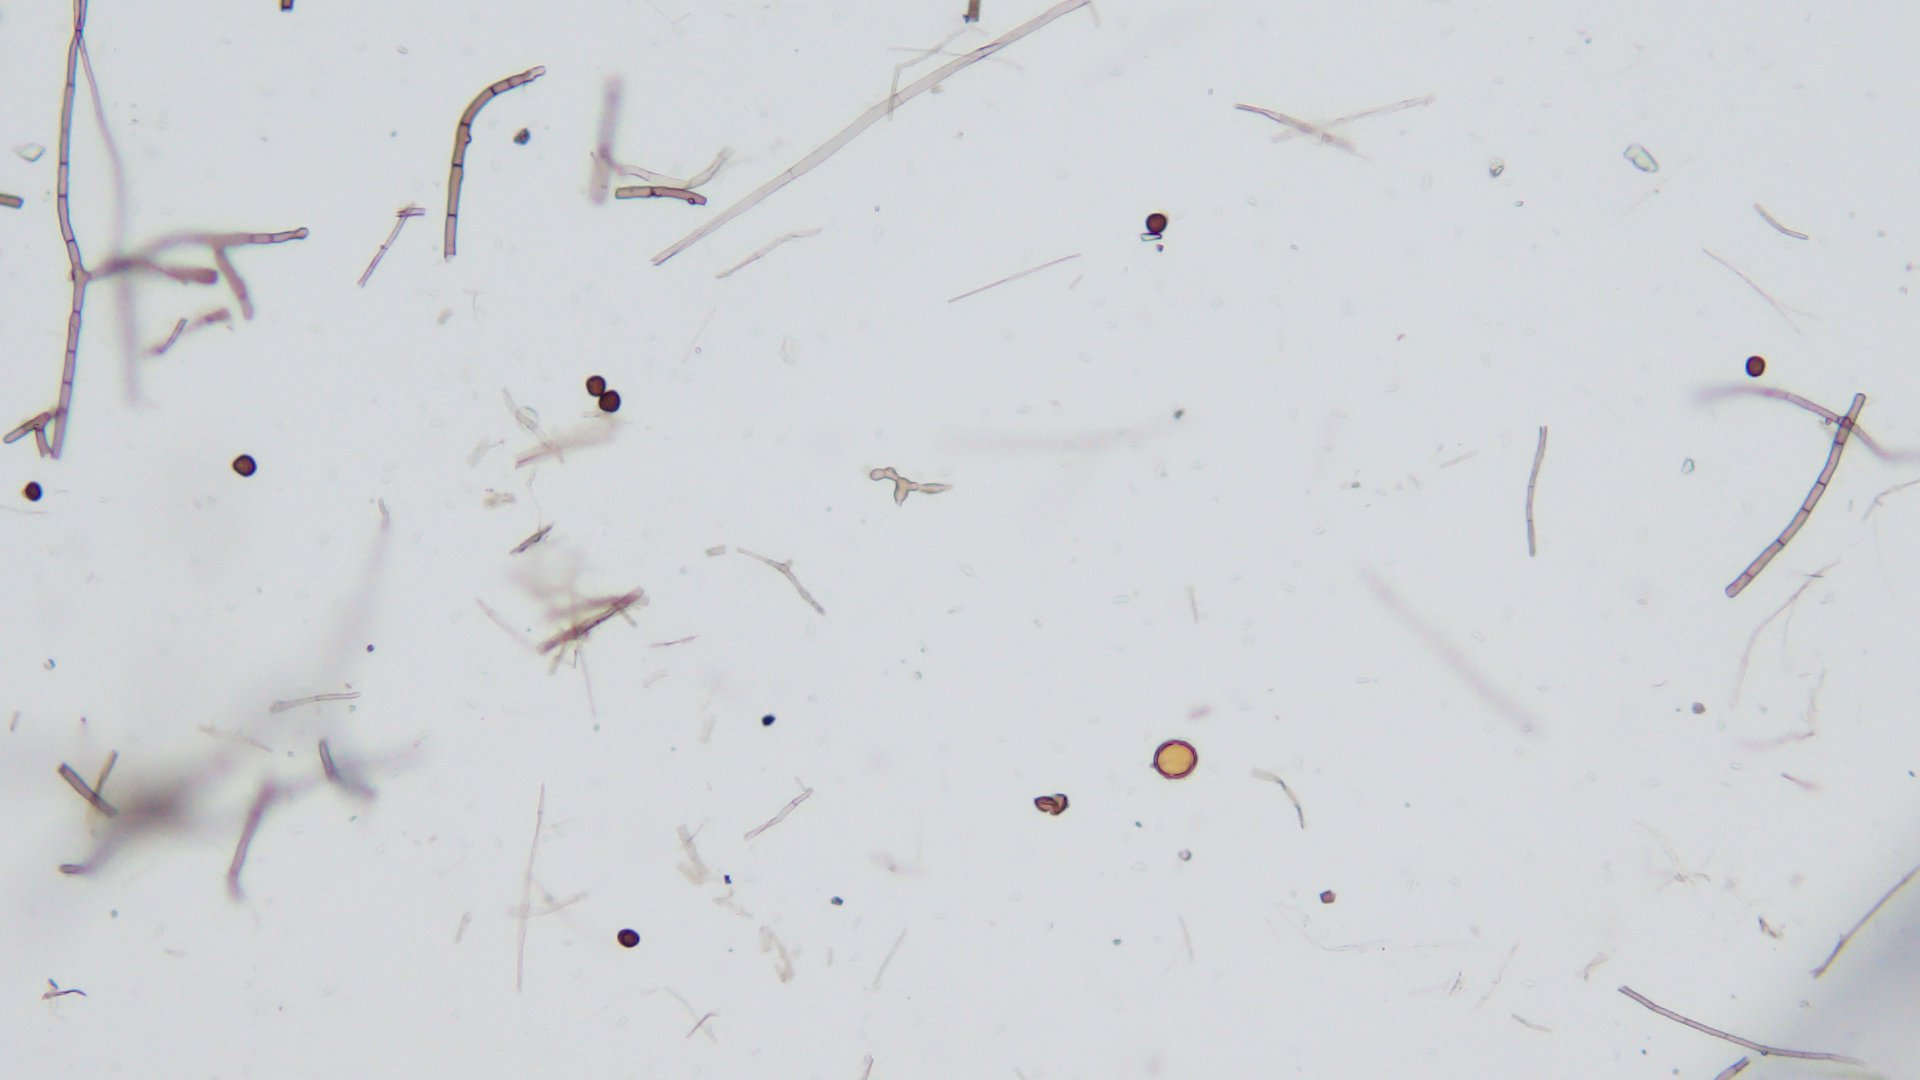shs_spore: (232, 455, 258, 477), (617, 928, 641, 949), (1745, 355, 1766, 378), (1145, 214, 1168, 233), (601, 390, 622, 411), (584, 377, 608, 396), (22, 483, 44, 502)
xb_spore: (1153, 740, 1197, 778)
